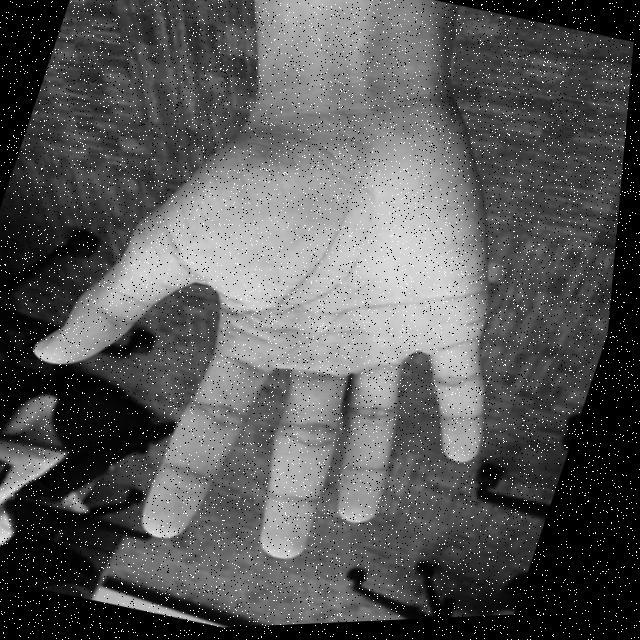no-gloves: (0, 16, 599, 618)
